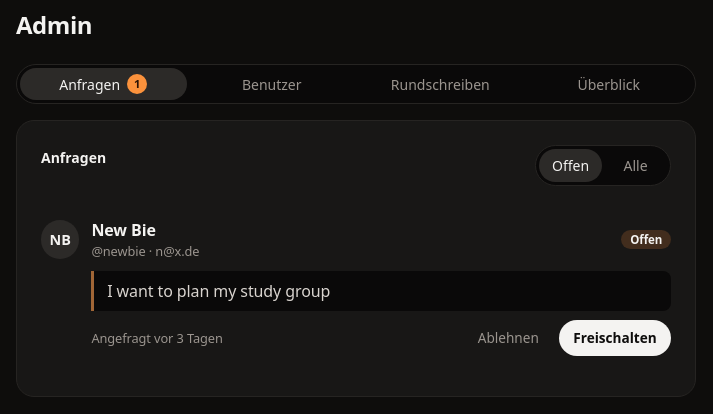
it: admin panel › approves a beta request and updates the badge
Expected: the text "I want to plan my study group" is shown, [91,271,671,311]
Expected: the text "@newbie · n@x.de" is shown, [91,242,200,261]
Click the button "Freischalten" at (615, 338), box [559,320,671,356]
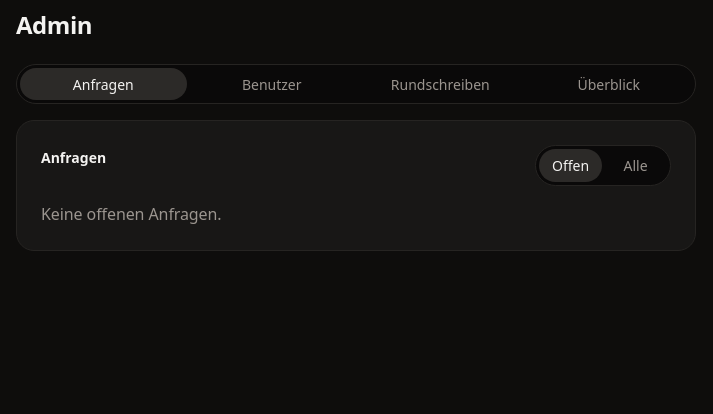
Expected: the text "Keine offenen Anfragen." is shown, [41,203,222,225]
